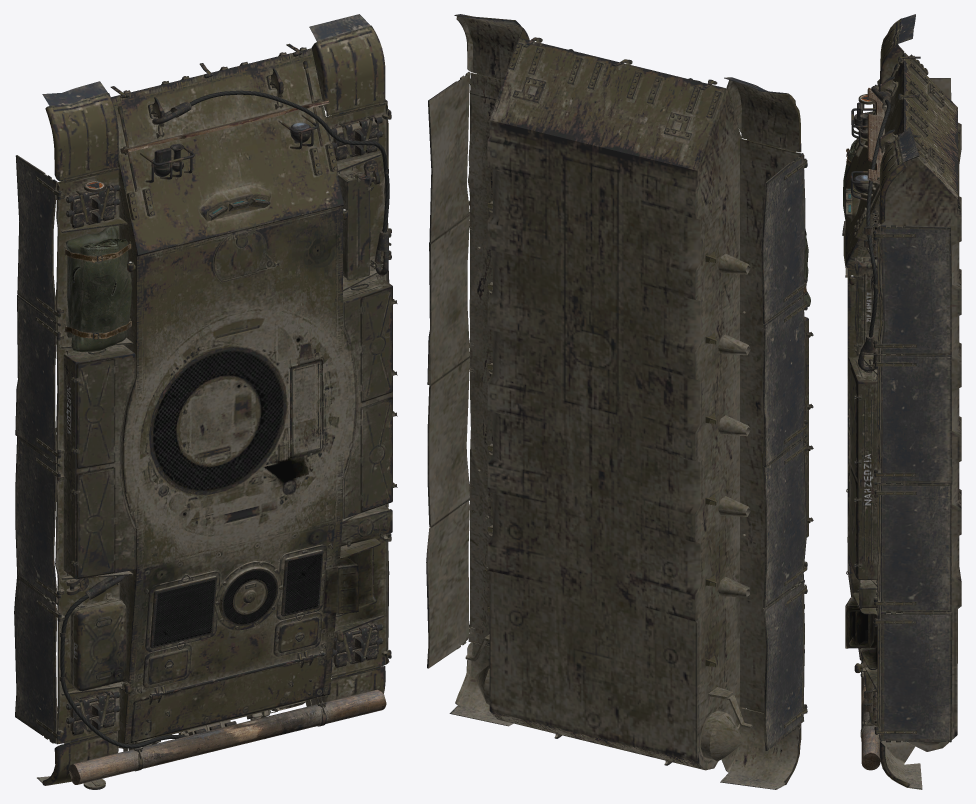
Rendered from Hull.glb.
The picture shows the model from 3 angles, left to right: view 1: azimuth 30°, elevation 25°; view 2: azimuth 150°, elevation 25°; view 3: azimuth 270°, elevation 25°; orthographic projection. The views are drawn at different scales.
Visible parts, largest first — view 1: set_0_group_0; view 2: set_0_group_0; view 3: set_0_group_0.
Part boxes in pixels (x1,y1,x2,y2): set_0_group_0: (14, 14, 397, 789); set_0_group_0: (426, 14, 813, 789); set_0_group_0: (842, 14, 961, 789).
Size of the model in its own units: 3.54 by 7 by 1.18.
Materials: 1 (1 with a texture image).
